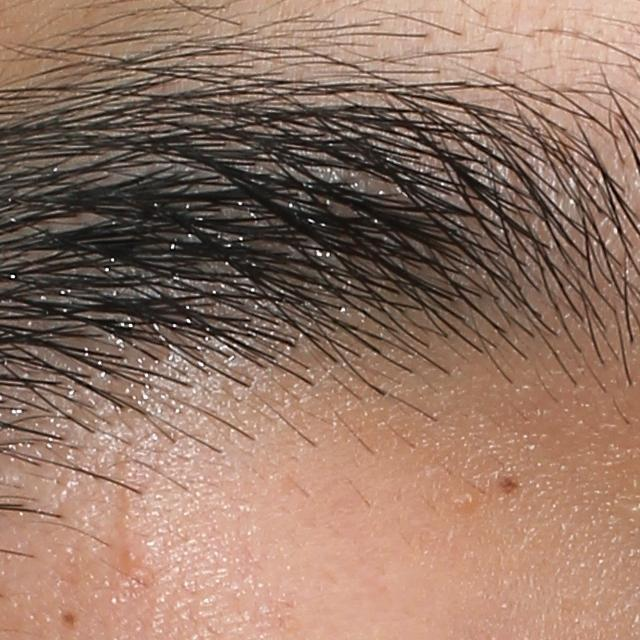comedo: (450, 490, 479, 516)
nevus: (493, 475, 518, 494), (60, 608, 79, 629)
